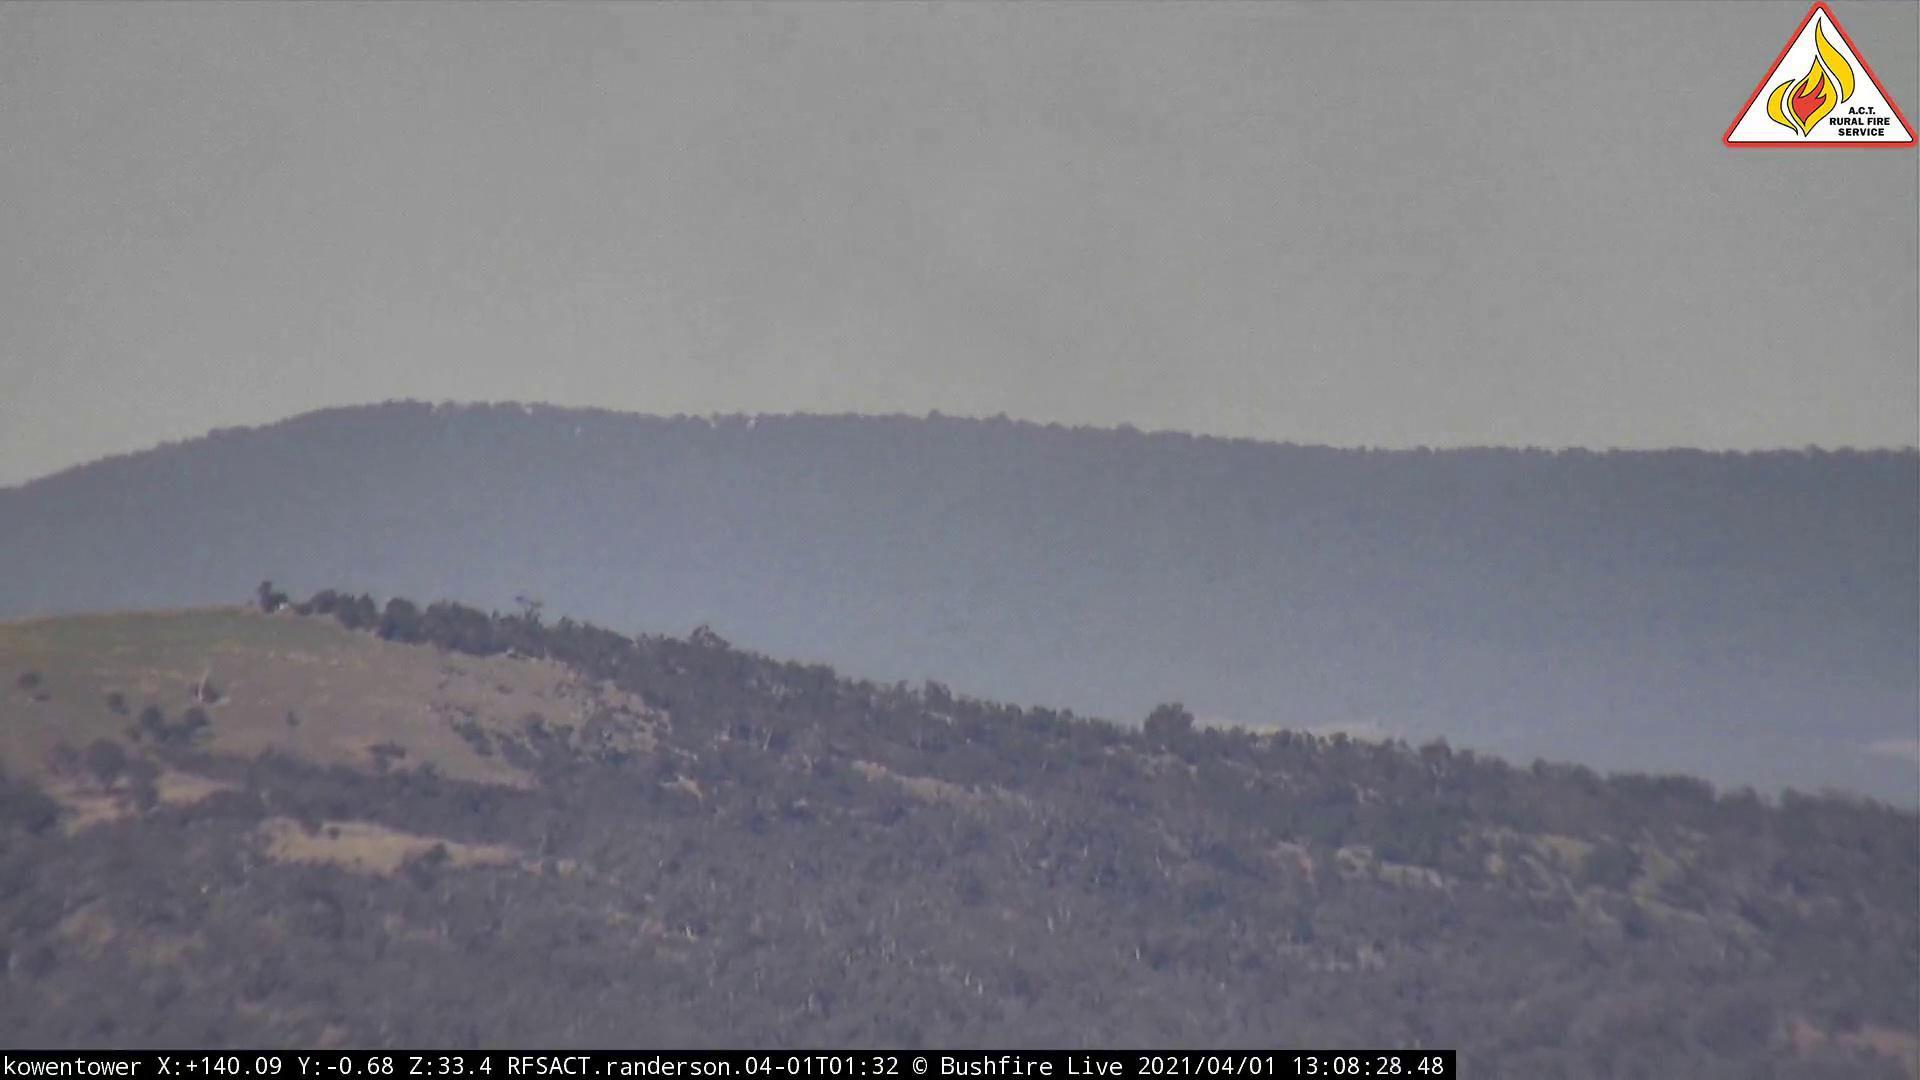Smoke: (708, 103, 1456, 655)
